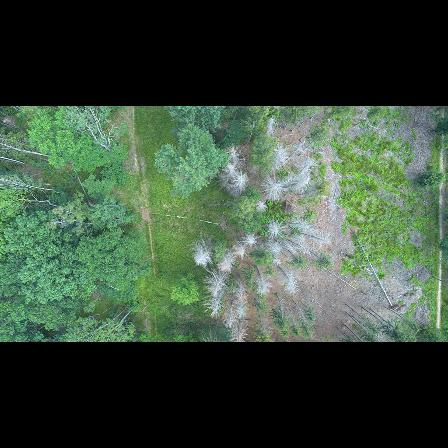Dead: (262, 177, 290, 199), (209, 269, 231, 297), (192, 240, 215, 265), (206, 294, 229, 319), (276, 240, 301, 260), (270, 145, 288, 172), (294, 157, 317, 178), (260, 116, 279, 141), (279, 269, 296, 295), (234, 285, 248, 316), (288, 141, 307, 163), (302, 245, 326, 262), (255, 266, 268, 296), (301, 233, 333, 245), (218, 252, 238, 270), (293, 178, 310, 196), (262, 246, 279, 264), (267, 220, 283, 239), (223, 300, 233, 328), (233, 317, 245, 340), (235, 242, 248, 261), (233, 174, 249, 189), (282, 236, 301, 248), (228, 144, 241, 161), (244, 233, 259, 247), (224, 162, 238, 175), (256, 199, 268, 213), (285, 222, 307, 226)
